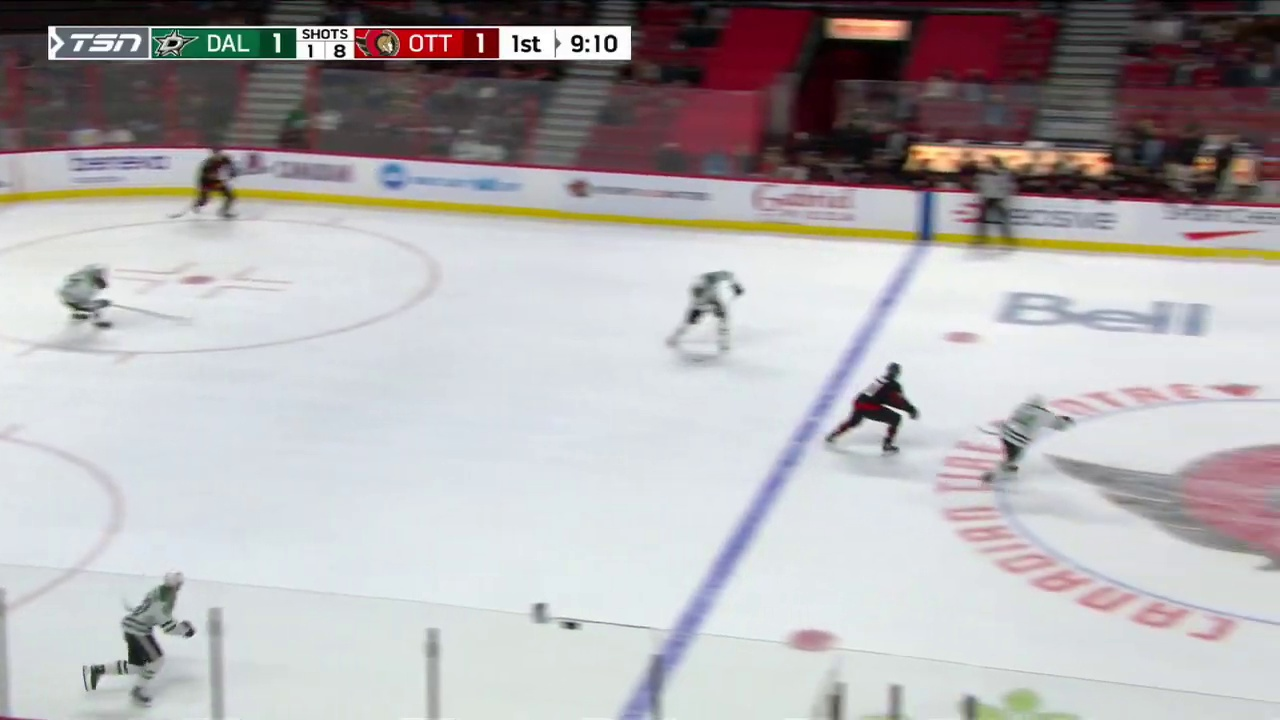hockeyplayer: (82, 569, 196, 707), (825, 362, 920, 456), (982, 393, 1076, 483), (665, 269, 745, 352), (59, 264, 114, 329), (192, 146, 239, 218)
referee: (974, 164, 1016, 248)
